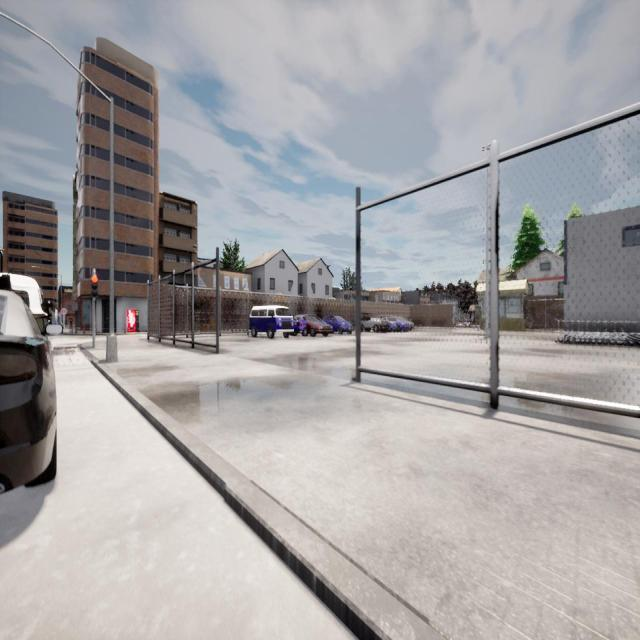Pedestrian: (68, 310, 74, 336)
Traffic_Signs: (60, 307, 66, 315)
Vehicle: (0, 289, 56, 492), (1, 274, 50, 334), (249, 306, 294, 339), (296, 314, 333, 336), (324, 314, 354, 336), (360, 313, 390, 334), (388, 314, 414, 332)
traffic_light: (92, 276, 98, 298)
